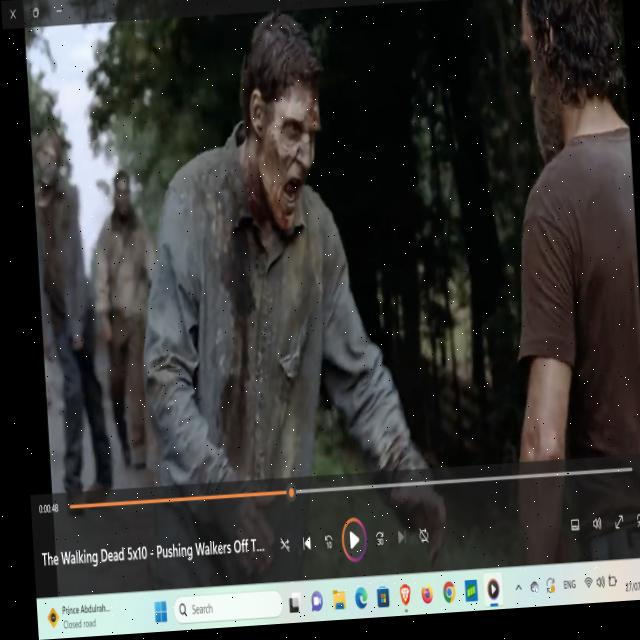Zombie: (245, 20, 315, 239), (34, 126, 58, 190), (110, 166, 133, 224)
human: (513, 0, 613, 153)
